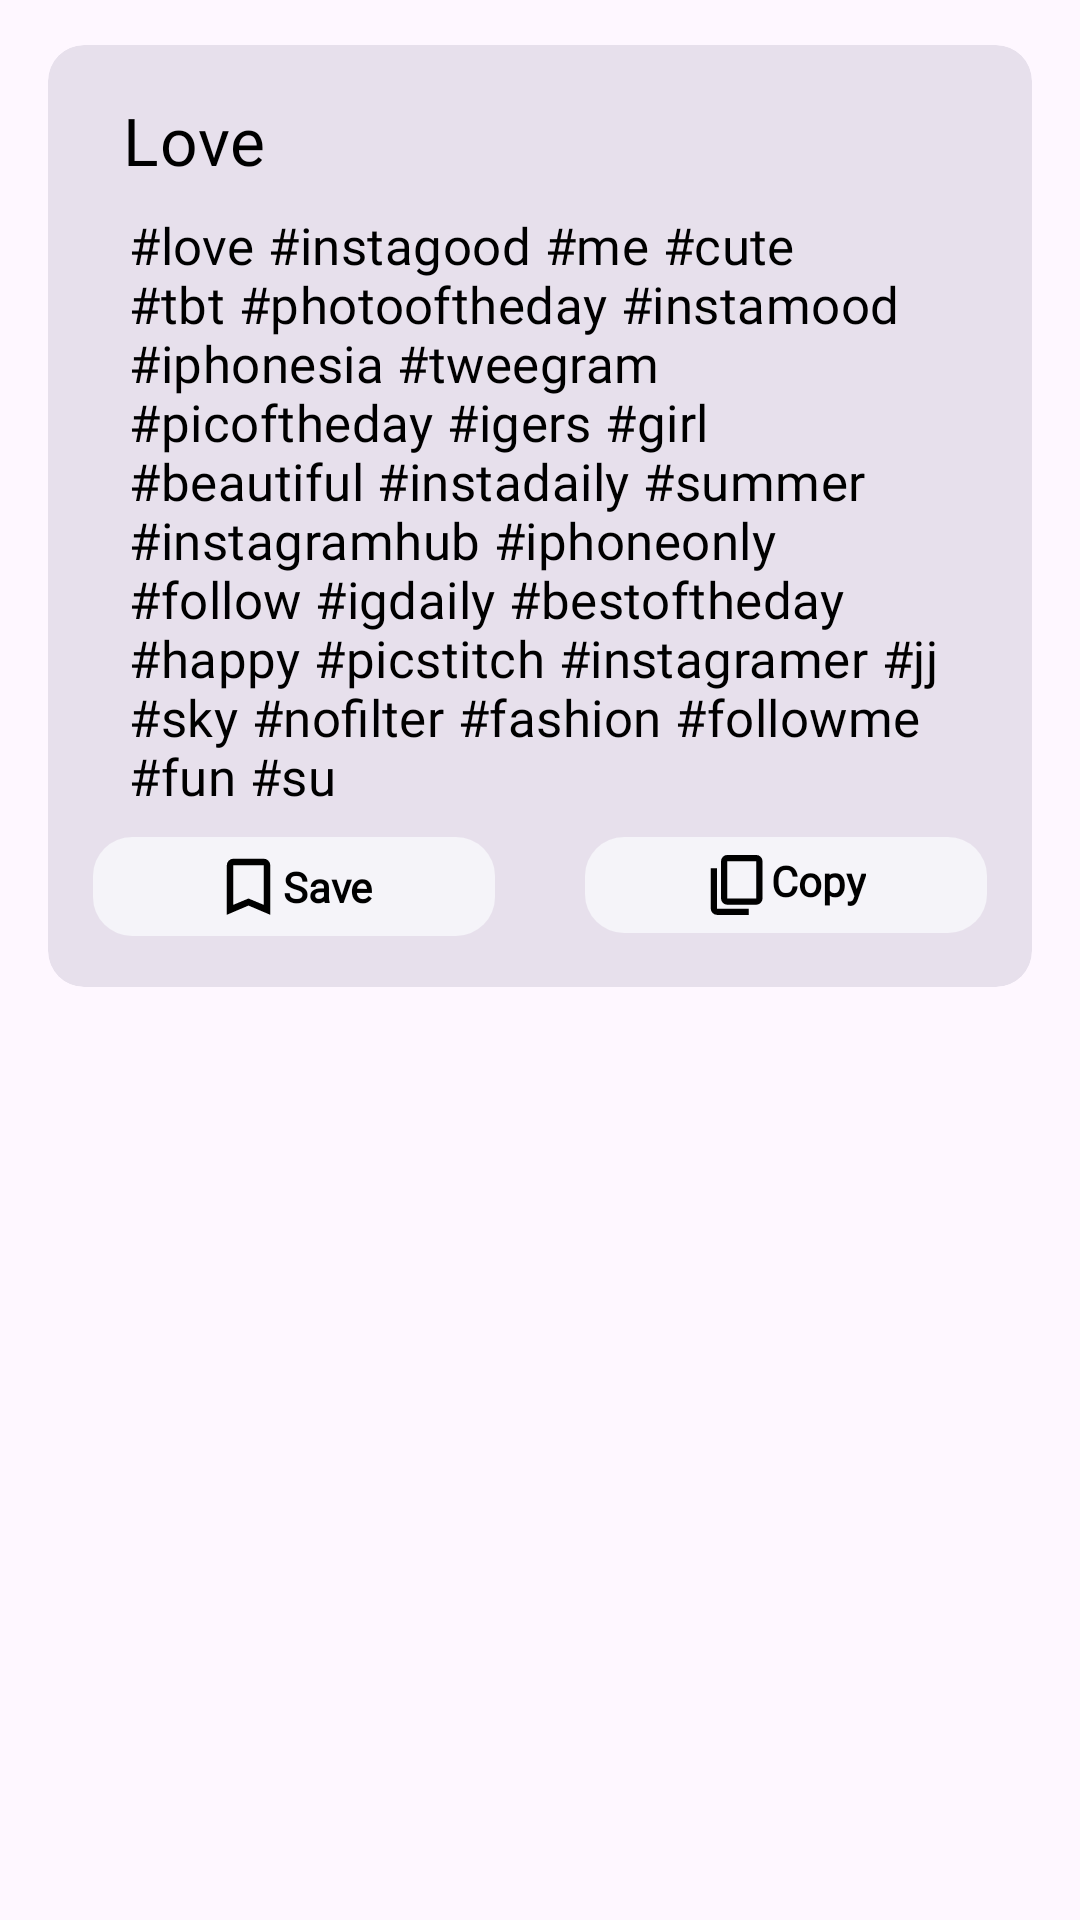

Icon click points for this 1080 × 1920 phone screenshot, format point (x, y):
bookmark: point (248, 886)
